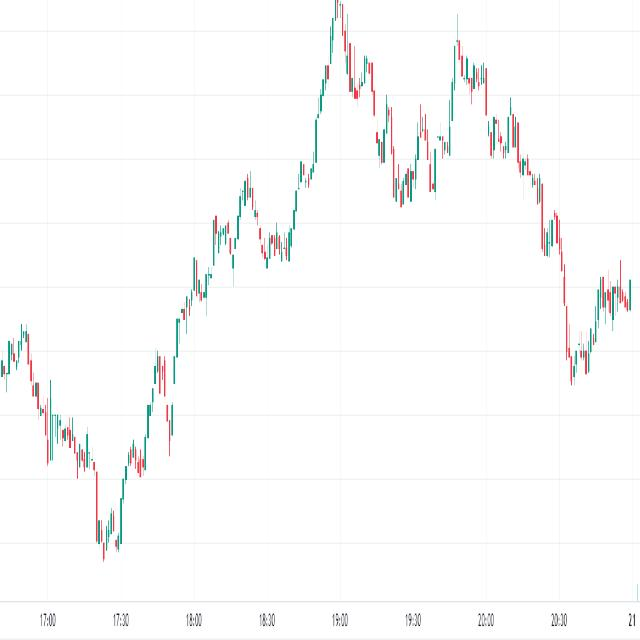Double-Bottom: (562, 312, 598, 400), (89, 485, 128, 564)
